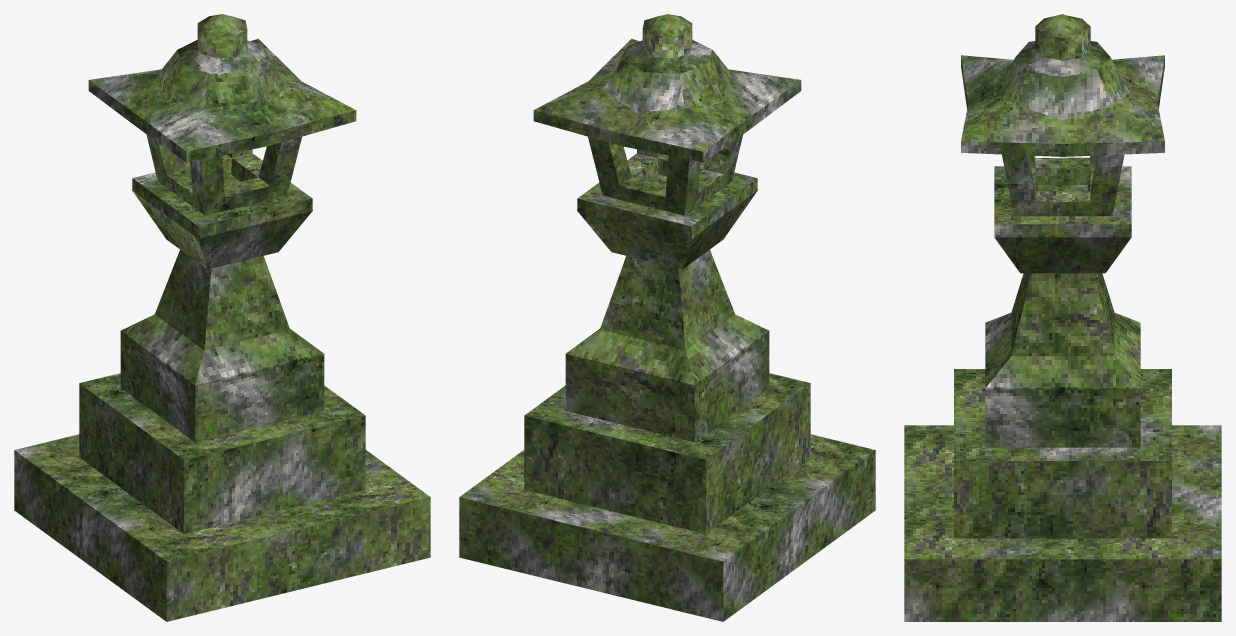
Rendered from rock_lantern_moss.fbx.
The picture shows the model from 3 angles, left to right: view 1: azimuth 30°, elevation 25°; view 2: azimuth 150°, elevation 25°; view 3: azimuth 270°, elevation 25°; orthographic projection. The views are drawn at different scales.
Visible parts, largest first — view 1: pCube19; view 2: pCube19; view 3: pCube19.
Part boxes in pixels (<box>): pCube19: <box>14,14,430,621</box>; pCube19: <box>459,14,875,621</box>; pCube19: <box>904,14,1221,621</box>.
Size of the model in its own units: 1.76 by 3.31 by 1.76.
